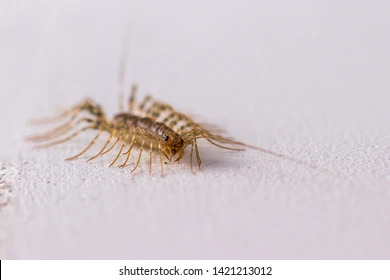centipede: (23, 67, 289, 194)
